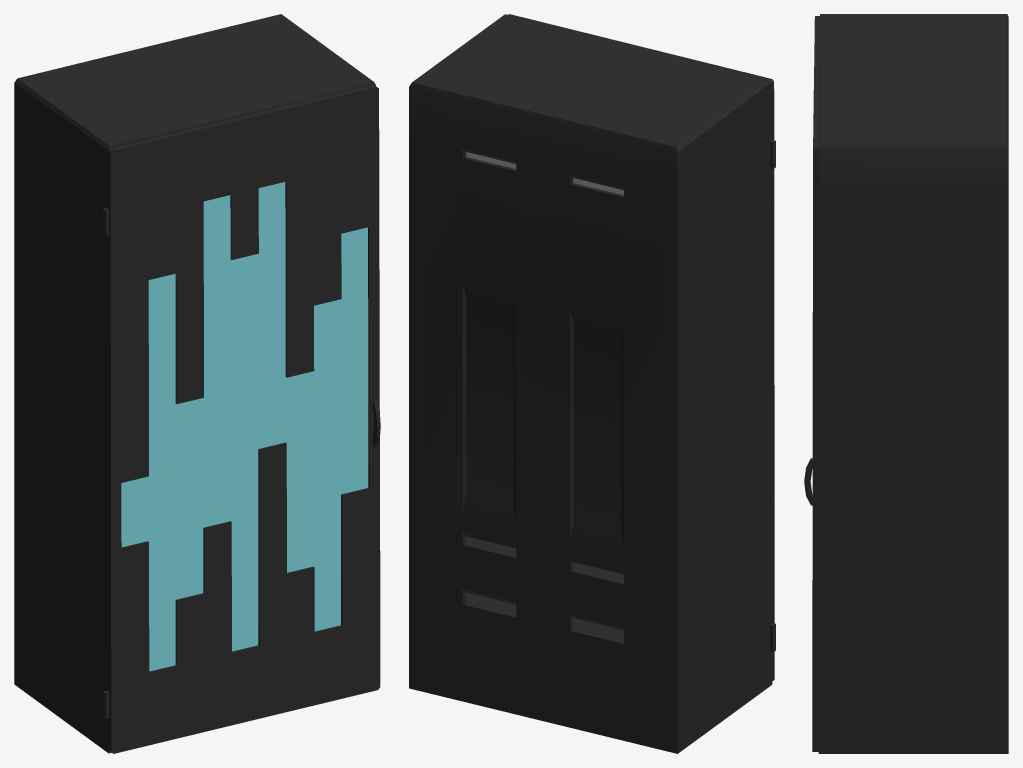
The model's file is Server Farm.fbx.
The picture shows the model from 3 angles, left to right: view 1: azimuth 30°, elevation 25°; view 2: azimuth 150°, elevation 25°; view 3: azimuth 270°, elevation 25°; orthographic projection.
Visible parts, largest first — view 1: Server Farm Door, Server Farm Box; view 2: Server Farm Box, Server Farm Door, Server Farm unit 8, Server Farm unit 2; view 3: Server Farm Box, Server Farm Door.
Boxes of the visible parts, bbox=[...] form: Server Farm Door: bbox=[103, 84, 380, 753]; Server Farm Box: bbox=[14, 14, 375, 753]; Server Farm Box: bbox=[409, 14, 772, 753]; Server Farm Door: bbox=[508, 14, 775, 682]; Server Farm unit 8: bbox=[572, 562, 623, 638]; Server Farm unit 2: bbox=[466, 536, 516, 612]; Server Farm Box: bbox=[818, 14, 1008, 753]; Server Farm Door: bbox=[804, 16, 819, 751].
Bounding box in the file's own units: 97.41 × 207 × 62.85.
